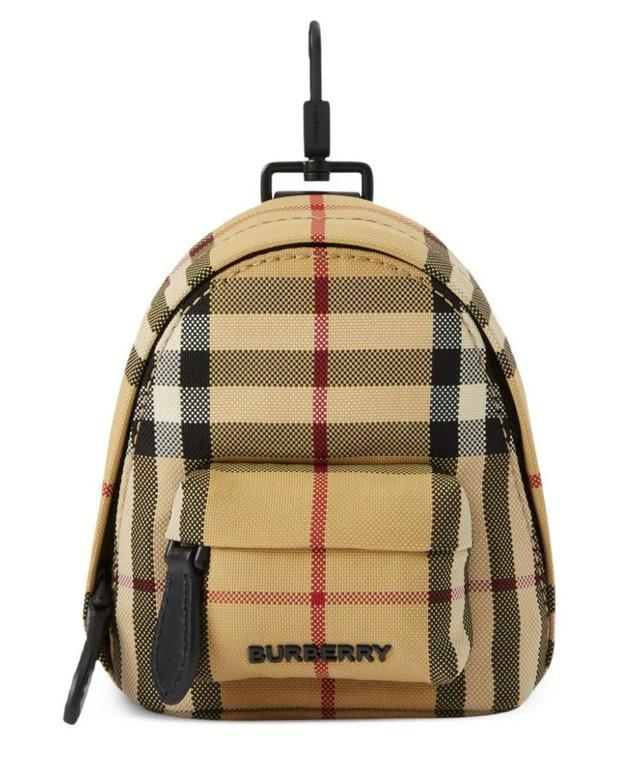BURBERRY: (248, 643, 391, 663)
